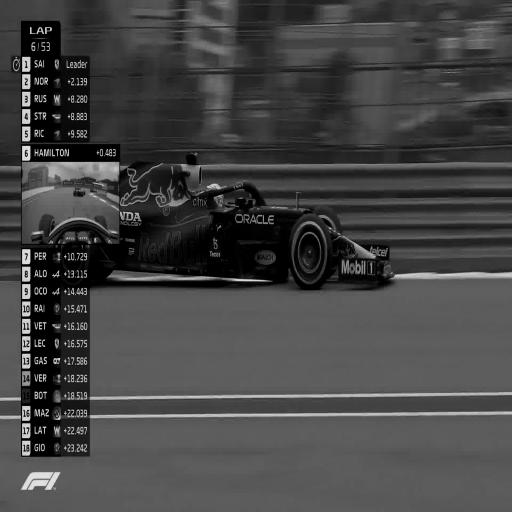f1_car: (32, 153, 394, 289), (73, 187, 85, 196)
